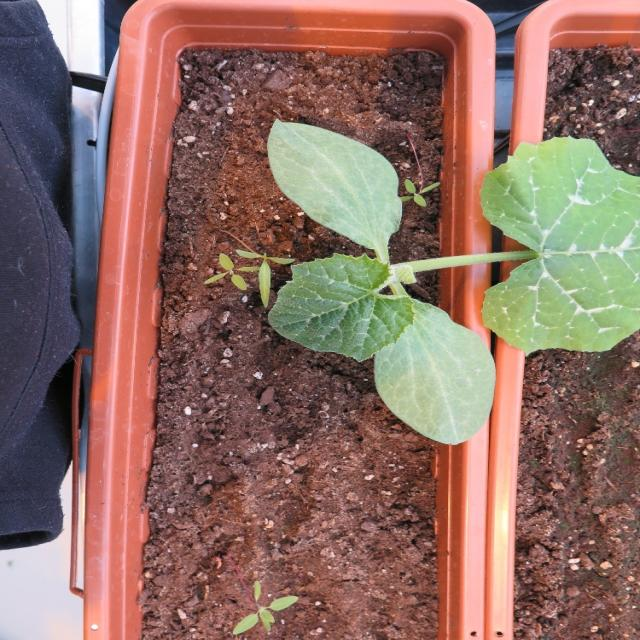weed: (230, 578, 299, 636)
